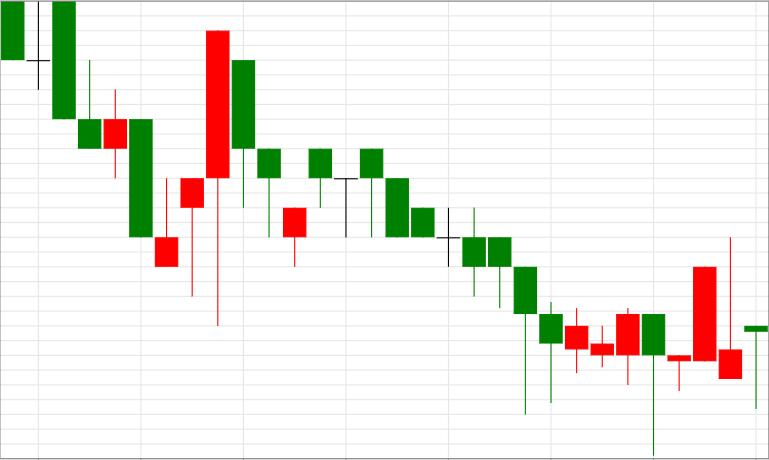hammer_rise: (361, 149, 536, 413), (361, 148, 511, 308)
inverse_hammer_rise: (0, 1, 178, 267), (1, 1, 101, 149)
